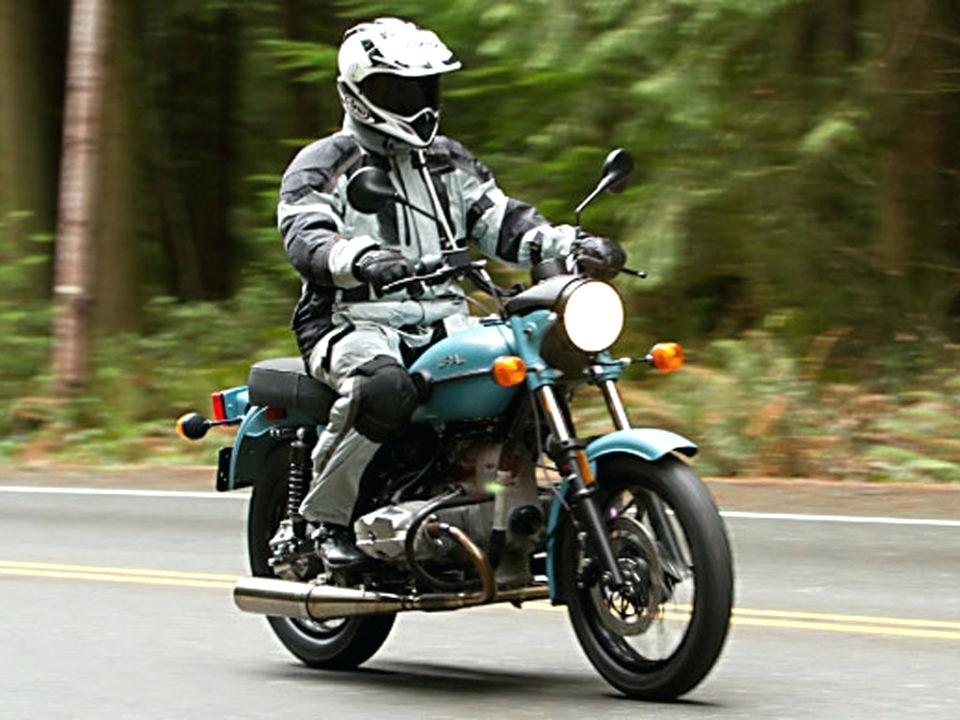with_helmet: (331, 16, 470, 142)
